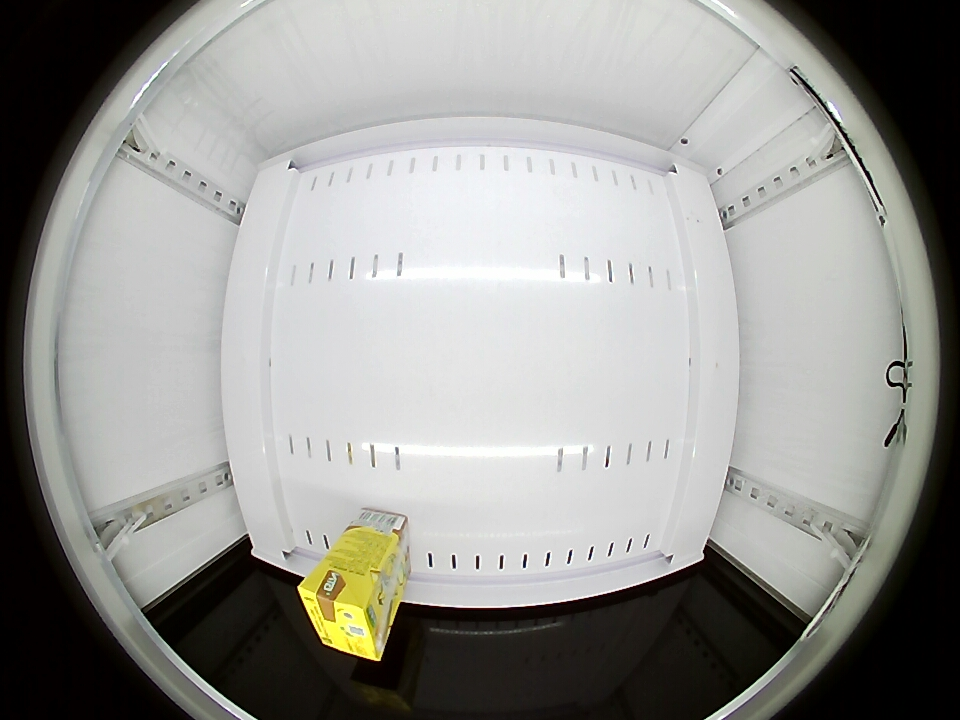weitaningmeng: (298, 561, 389, 660)
